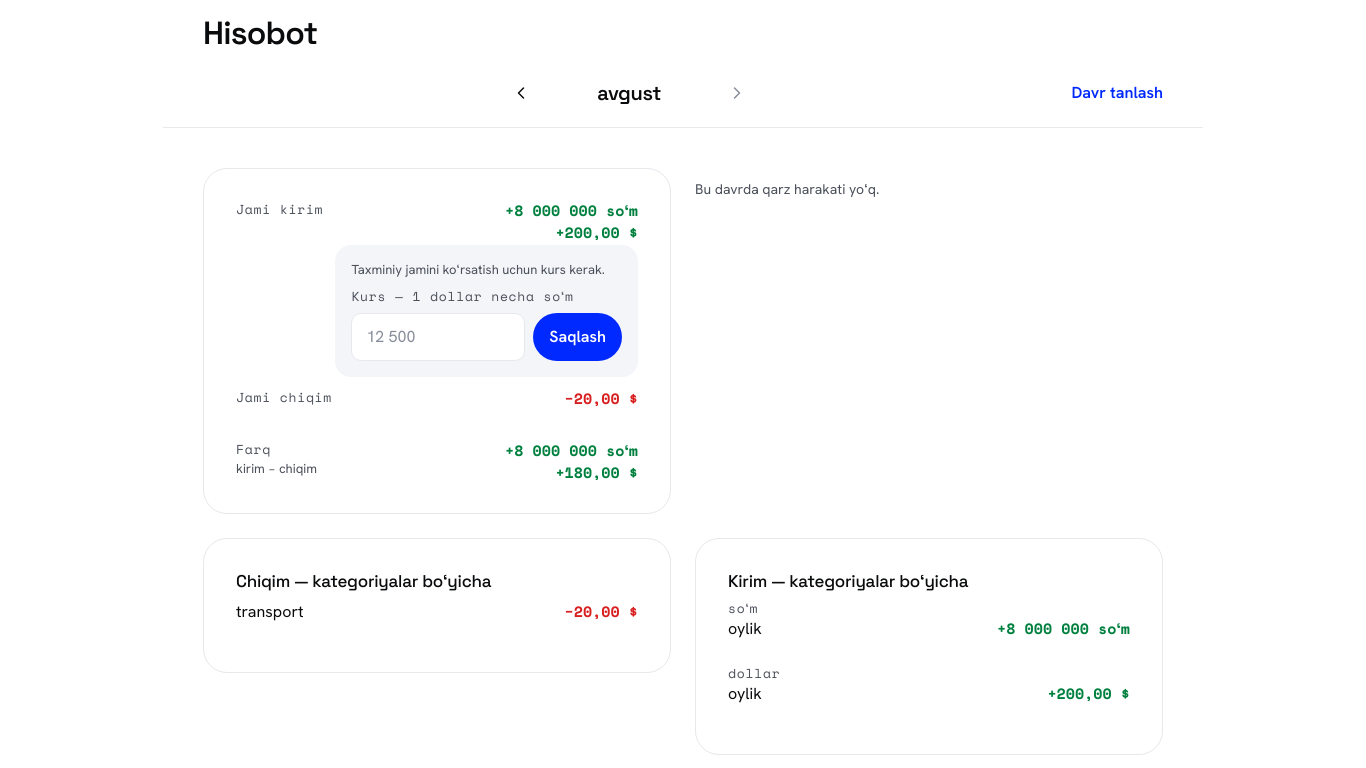
kurs soʻrash bloki (0043; mezon 21) › kurs boʻsh boʻlsa «Kursni kiriting…» chiqadi
The width and height of the screenshot is (1366, 768).
Click the button "Saqlash": (578, 337) [533, 313, 622, 361]
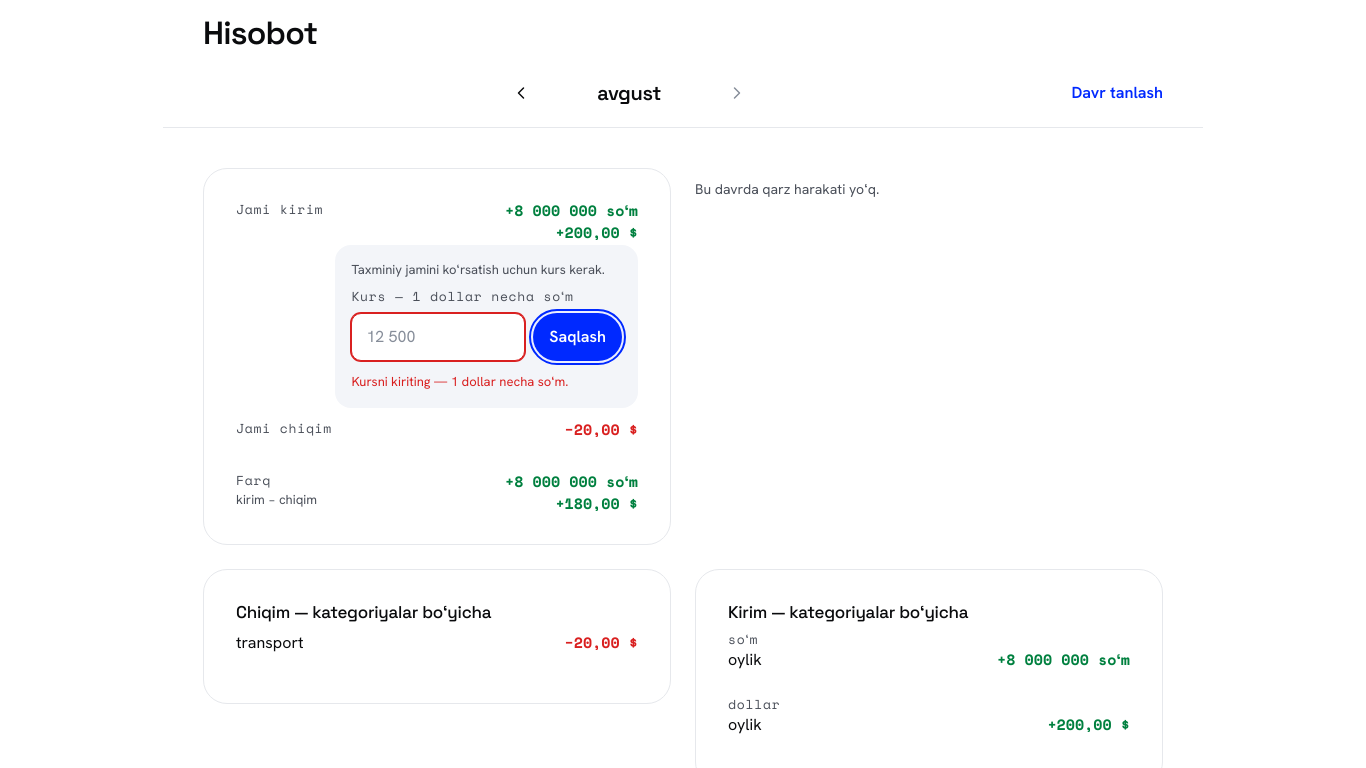
Expected: the text "Kursni kiriting — 1 dollar necha soʻm." is shown, [351, 373, 568, 390]
